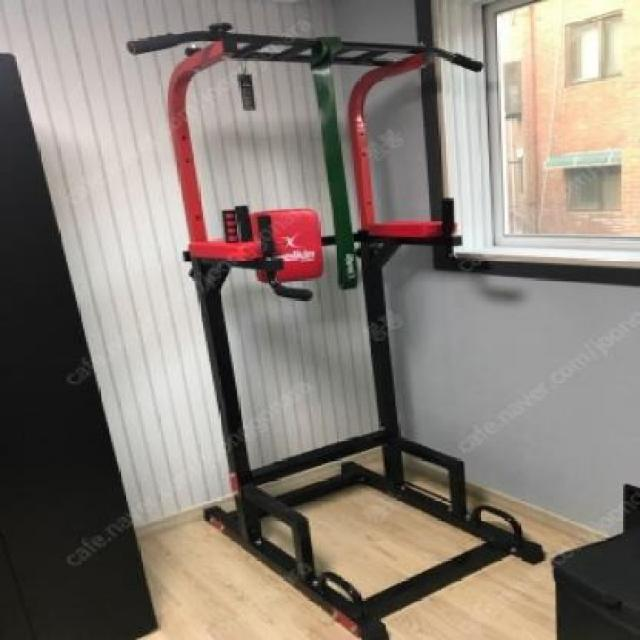chinning dipping: (128, 20, 548, 640)
